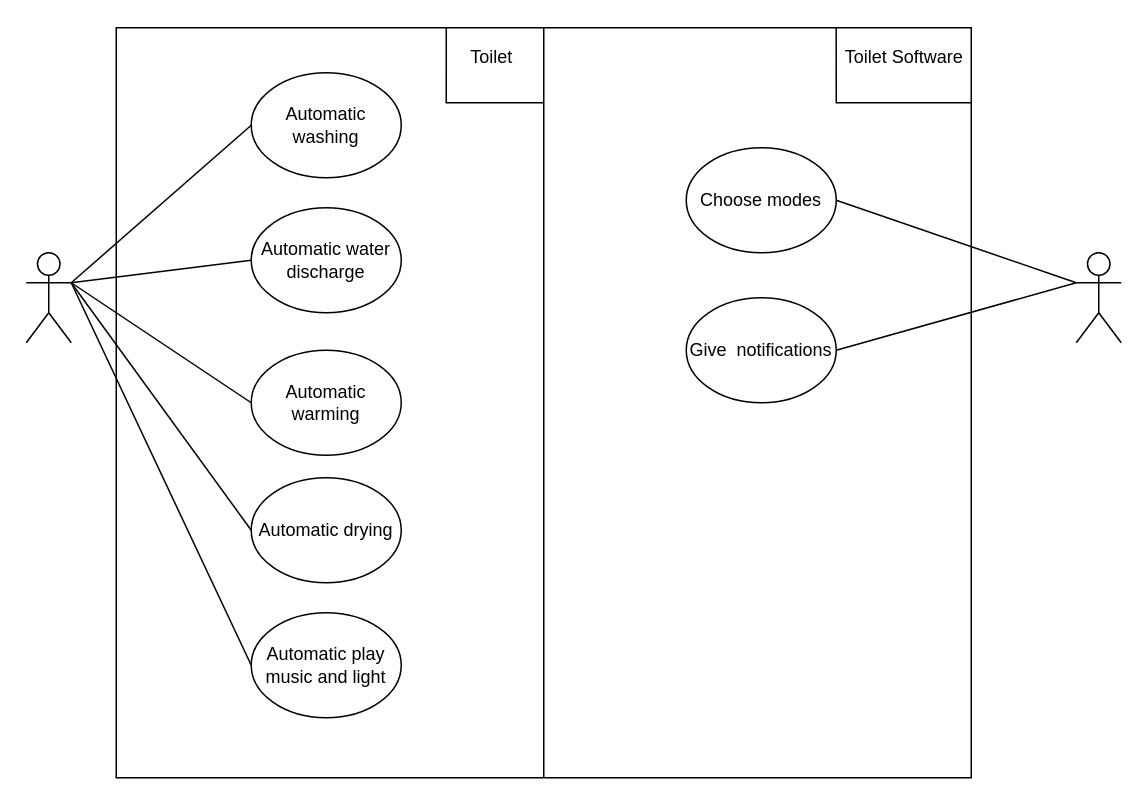
Some shapes in this 1148 by 806 pixel diagram are drawn without their labels. Here are the shapes that lost their labels. From the top down, the box of each, then its label:
(25, 251, 71, 343): Client
(1075, 251, 1121, 343): User
